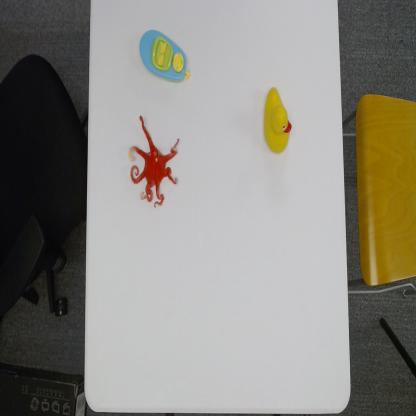Boat: (138, 27, 191, 83)
Duck: (263, 84, 292, 154)
Octopus: (128, 114, 182, 208)
